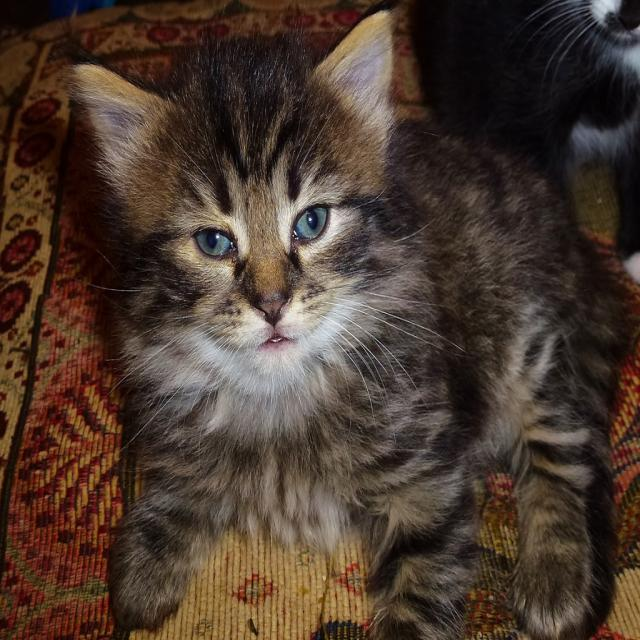Cat: (41, 0, 640, 639), (403, 0, 639, 283)
